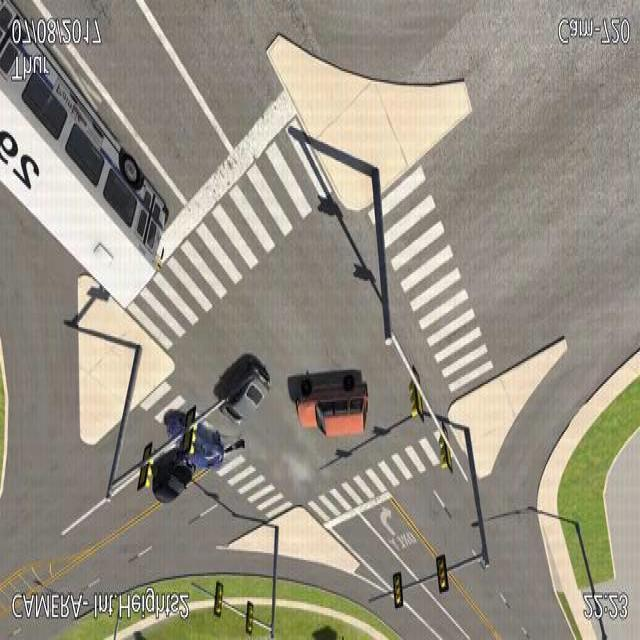moderate: (151, 408, 226, 508)
